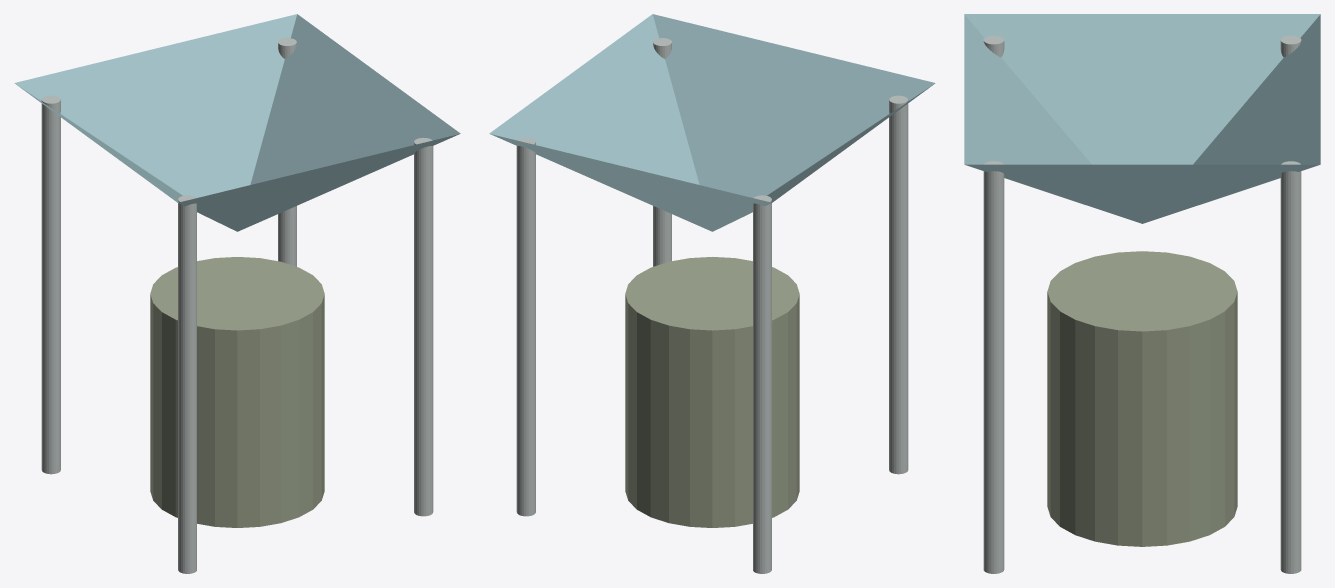
3 views of the same model, side by side, from view 1: azimuth 30°, elevation 25°; view 2: azimuth 150°, elevation 25°; view 3: azimuth 270°, elevation 25° (orthographic). The views are drawn at different scales.
Parts seen in each view (by area): view 1: collector funnel, barrel, support.001, support.002, support, support.003; view 2: collector funnel, barrel, support, support.003, support.001, support.002; view 3: collector funnel, barrel, support.002, support.003.
Boxes of the visible parts, x1,y1,x2,y2 form: collector funnel: (14,14,460,231); barrel: (150,257,324,527); support.001: (41,95,60,474); support.002: (414,137,433,516); support: (178,195,196,573); support.003: (278,38,296,266); collector funnel: (489,14,935,231); barrel: (625,257,799,527); support: (889,95,908,474); support.003: (516,137,535,516); support.001: (753,195,771,573); support.002: (653,38,671,266); collector funnel: (964,14,1320,223); barrel: (1047,251,1237,546); support.002: (983,161,1004,573); support.003: (1280,161,1301,573).
Size of the model in its own units: 1.2 by 1.55 by 1.2.
